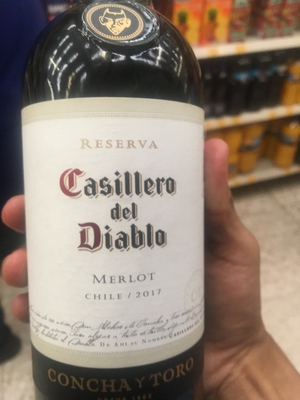casillero del diablo merlot: (19, 7, 212, 400)
